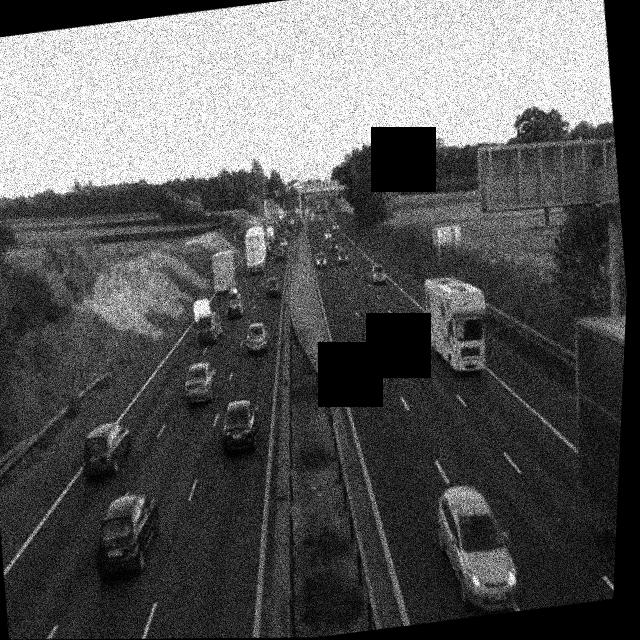car: (428, 479, 525, 616), (87, 491, 166, 581), (76, 419, 135, 480), (217, 397, 263, 455), (180, 360, 219, 405), (189, 296, 222, 345), (242, 321, 269, 353), (223, 285, 246, 318), (263, 275, 281, 299), (368, 263, 387, 285), (335, 247, 349, 265), (315, 249, 328, 267), (273, 245, 286, 260), (330, 220, 339, 233)
truck: (554, 312, 626, 602), (417, 272, 494, 377), (206, 247, 242, 300), (241, 223, 269, 272)
